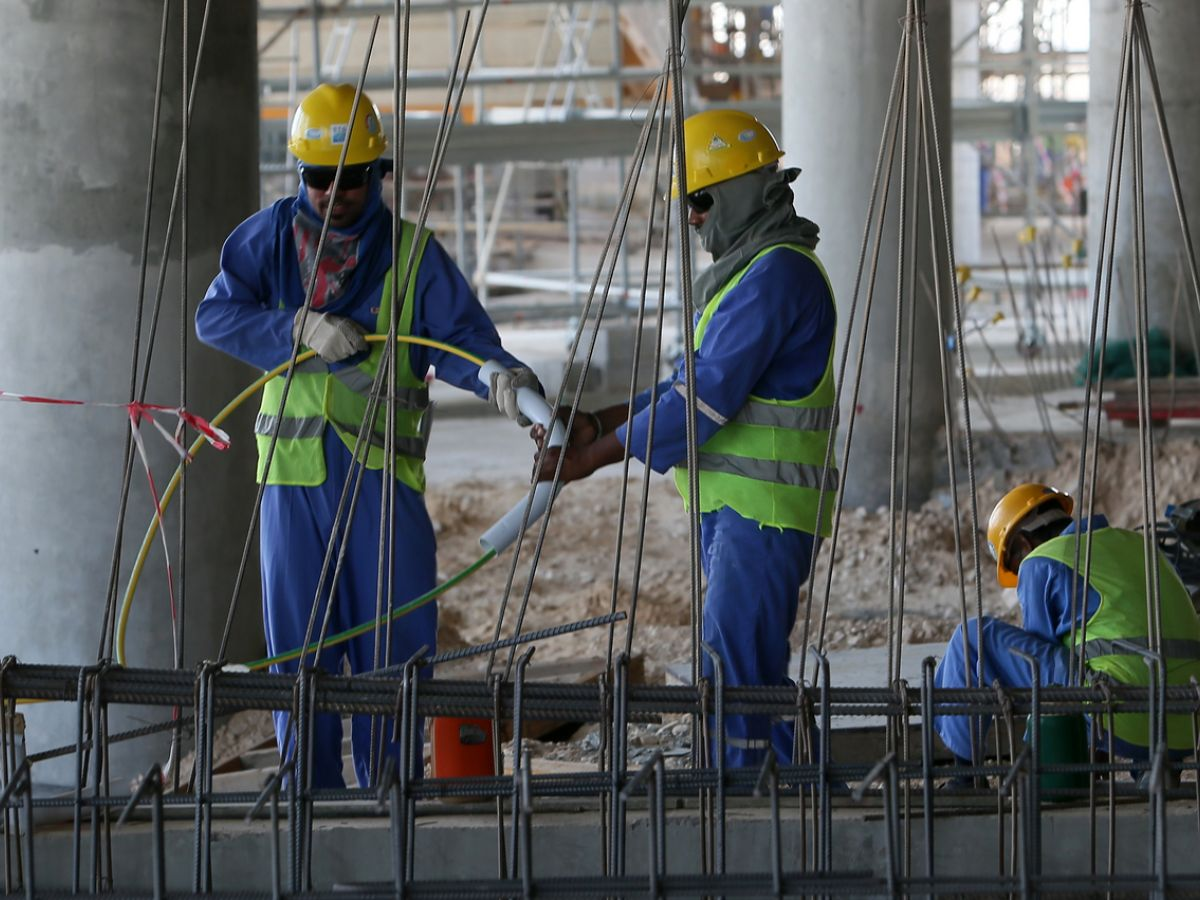Safety Helmet: (651, 83, 814, 273), (266, 72, 404, 250), (961, 463, 1098, 595)
